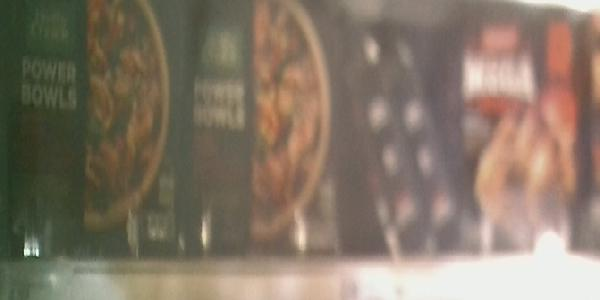pizza1: (8, 1, 179, 262), (180, 1, 344, 262), (454, 1, 583, 253)
